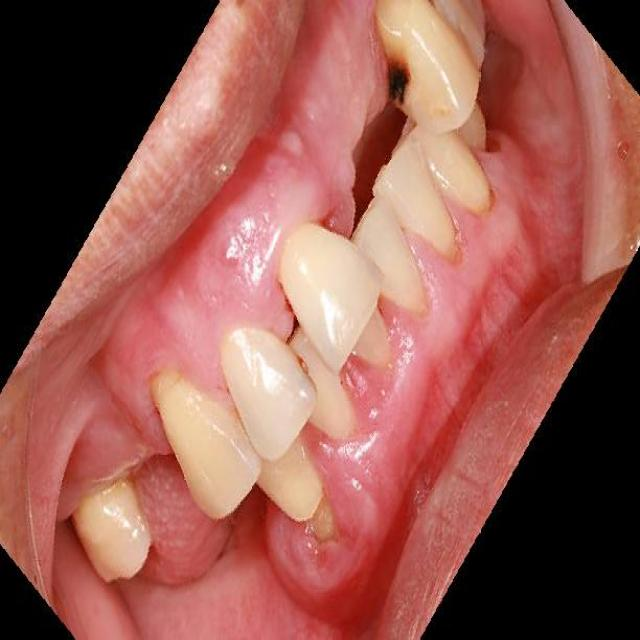caries: (377, 39, 428, 127), (301, 487, 354, 567)
